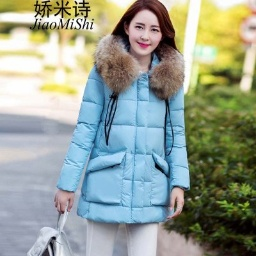face: (112, 1, 179, 56)
